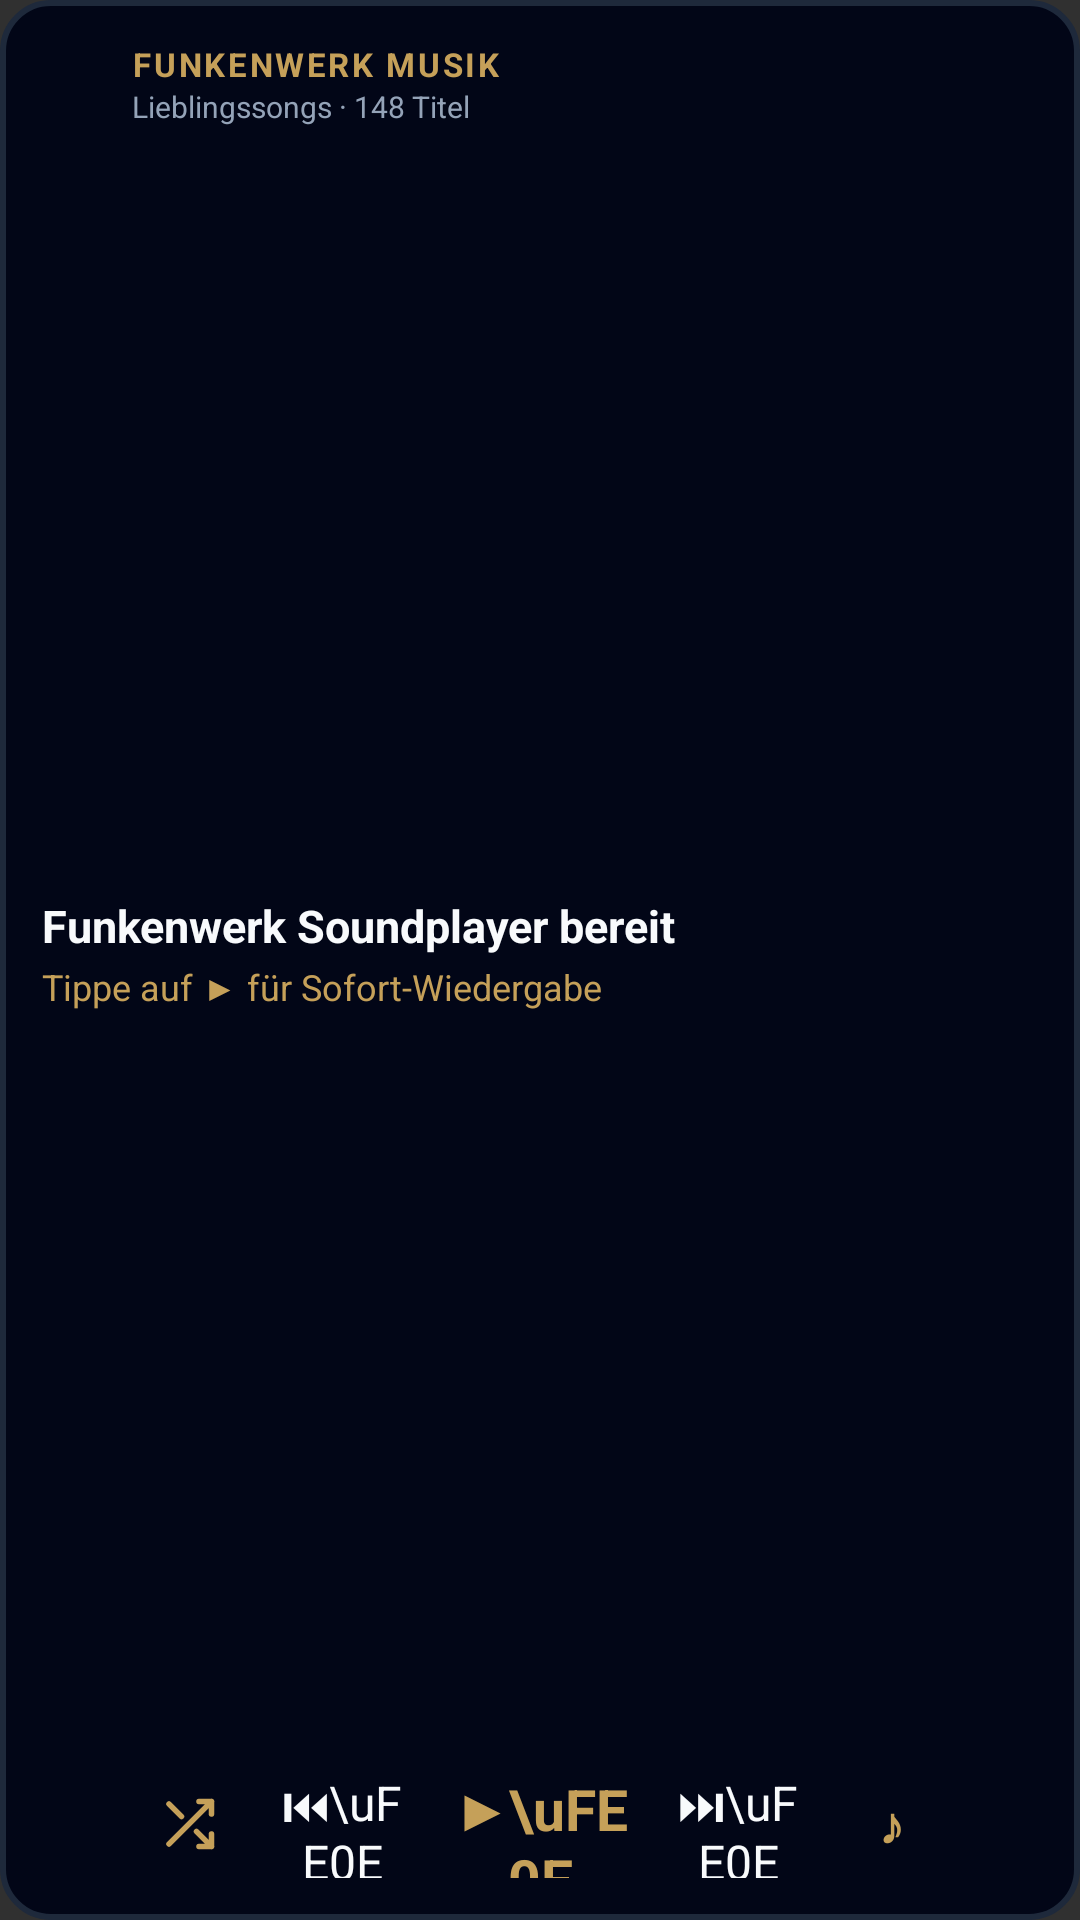

Icons on this 1080w x 1920h Android screen, each with the point to tap as (x=x, y=y):
Zufällige Wiedergabe: (x=190, y=1824)
